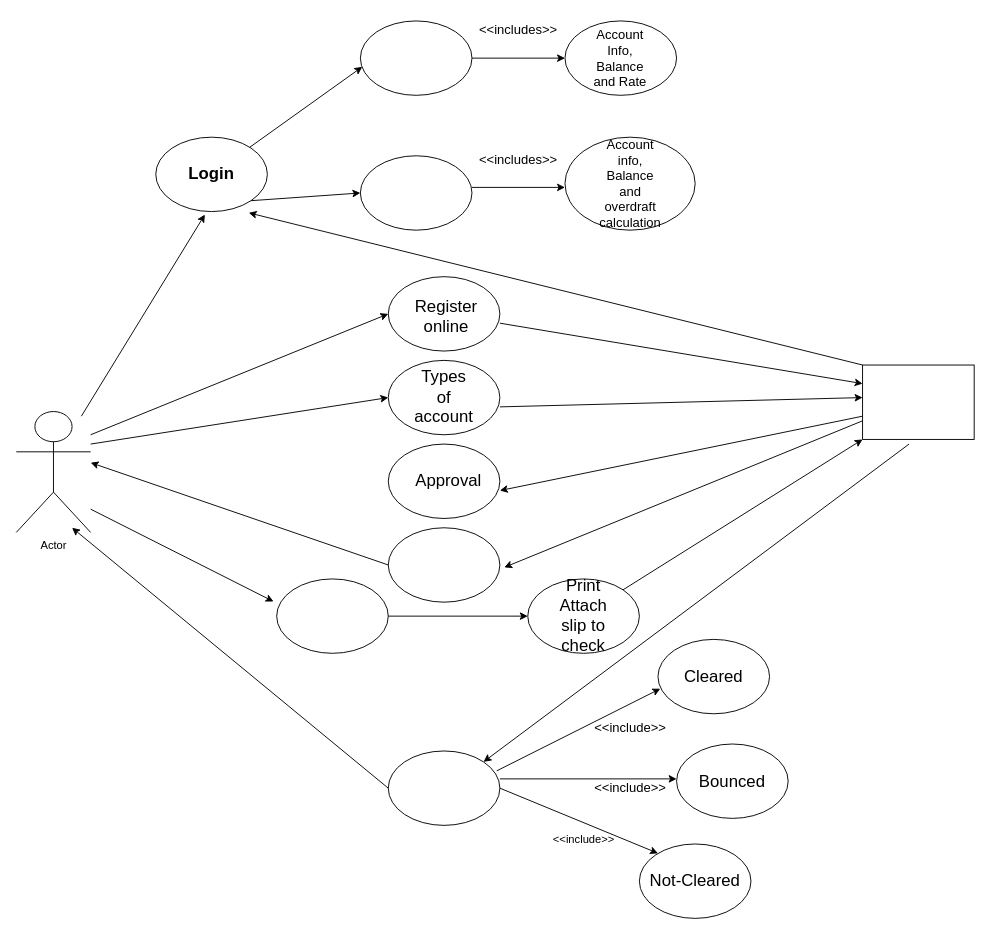
Image size: 990x935. Some labels were removed from this diagram. Here are the shapes that lost their labels. From the top down, the centre of each, then its label:
At point (415, 57): "Saving Account".
At point (415, 192): "Current account".
At point (918, 401): "Bank".
At point (443, 564): "Conform registration".
At point (332, 615): "Check deposit Online Slip".
At point (443, 787): "Check Status".
